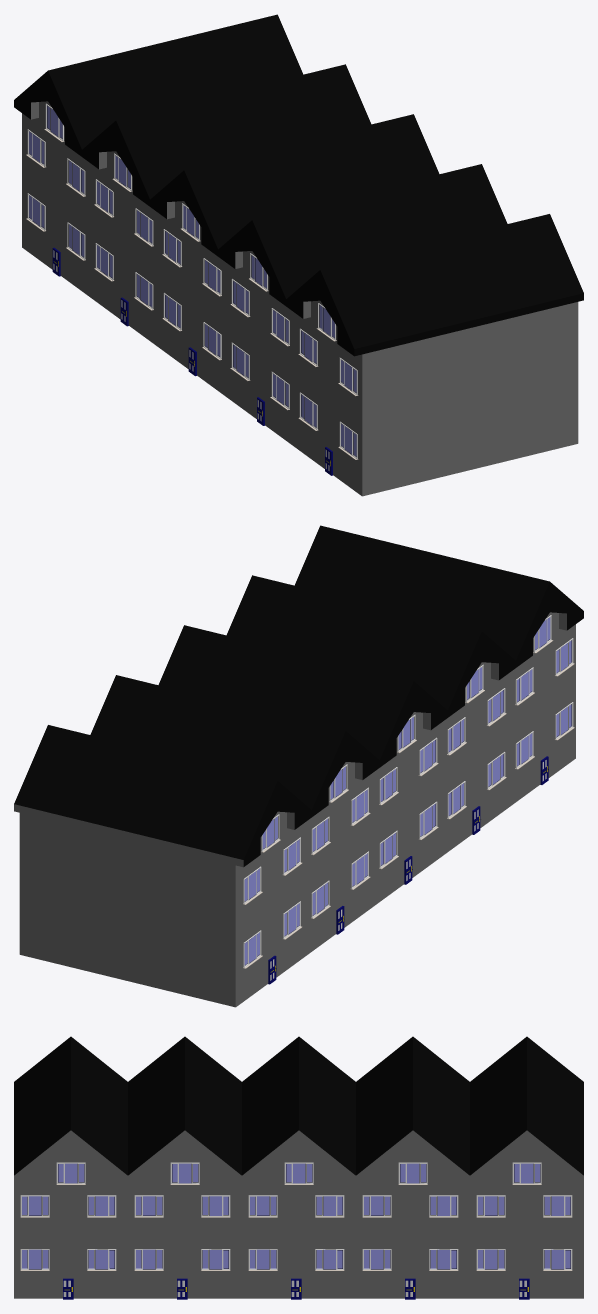
File: FiveTerracedHouses.fbx
3 renders of one model, top to bottom at view 1: azimuth 30°, elevation 25°; view 2: azimuth 150°, elevation 25°; view 3: azimuth 270°, elevation 25°, orthographic. The views are drawn at different scales.
Parts seen in each view (by area): view 1: TerracedHouses; view 2: TerracedHouses; view 3: TerracedHouses.
Part boxes in pixels (left/top/right/bottom): TerracedHouses: left=14, top=14, right=583, bottom=496; TerracedHouses: left=14, top=525, right=583, bottom=1007; TerracedHouses: left=14, top=1036, right=583, bottom=1299.
Size of the model in its own units: 1169 by 993 by 3000.
